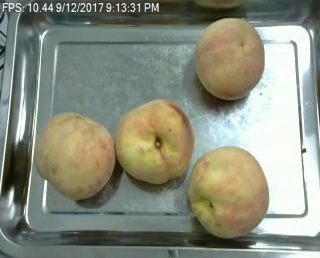Peach: (187, 145, 270, 238), (34, 112, 115, 199), (116, 98, 195, 184), (194, 17, 265, 100)
